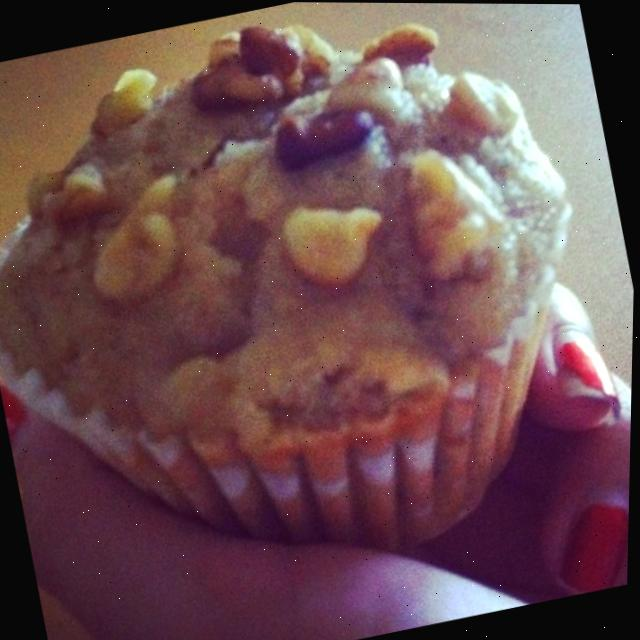炸货点心: (0, 0, 640, 632)
面包点心: (0, 0, 640, 632)
